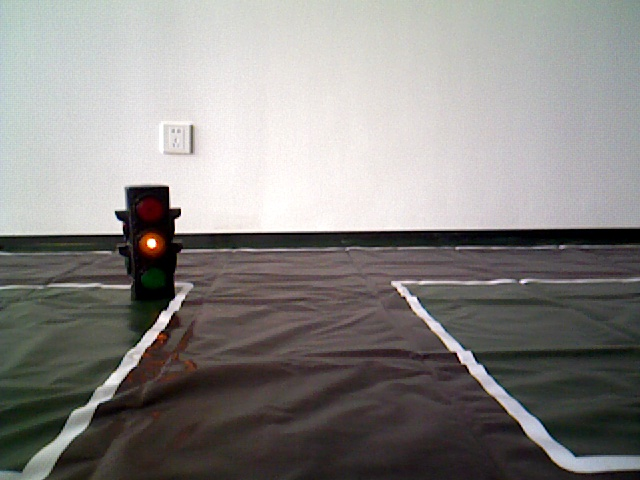yellow: (122, 185, 181, 295)
